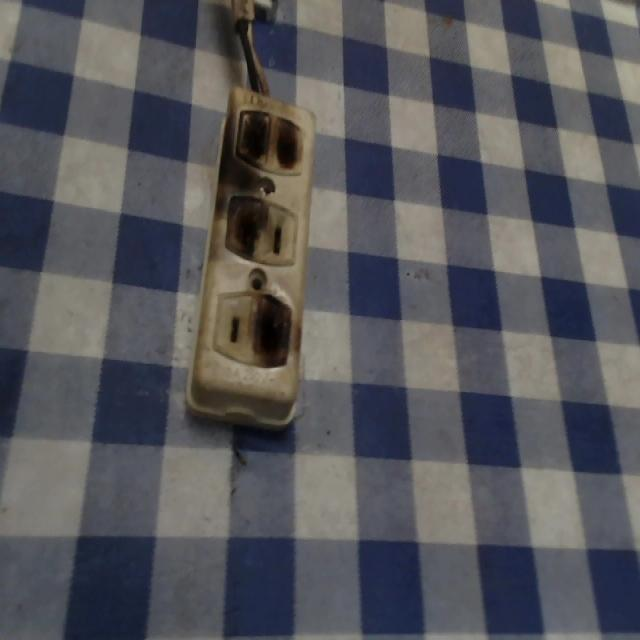-: (233, 104, 303, 176), (250, 289, 296, 367), (220, 187, 266, 252)
